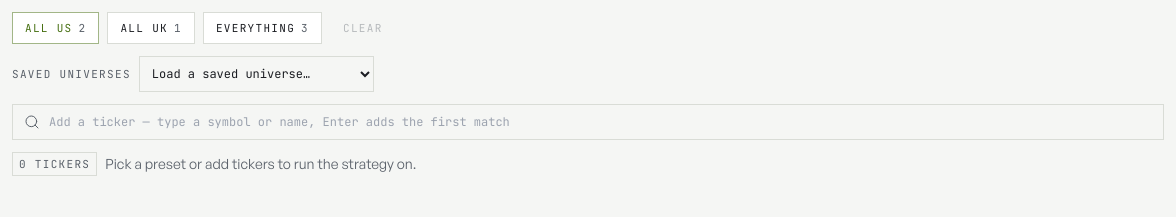
UniversePicker, saved universes › says so when a saved universe cannot be loaded
Select "uk-core · 1 · 2026-09-20" in the dropdown labelled "Saved universes" at (256, 74), box 139,56 -> 374,92
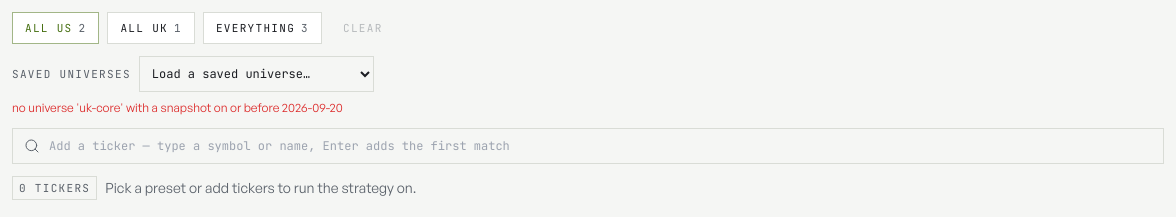
Now the message shows "no universe 'uk-core'", box 12,100 -> 343,115
